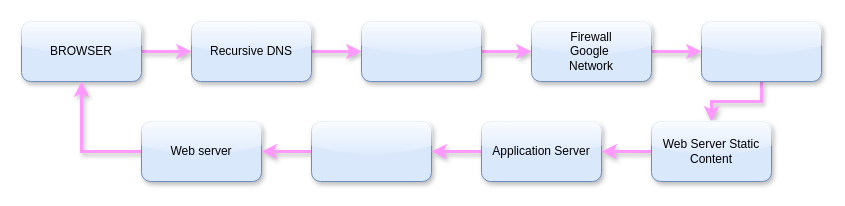
Some shapes in this 845 by 206 pixel diagram are drawn without their labels. The centre of each missing label's shape, as x and y in pixels:
"Database" belongs at point 372,152.
"Firewall client Network" belongs at point 422,52.
"Load Balancer" belongs at point 762,52.
